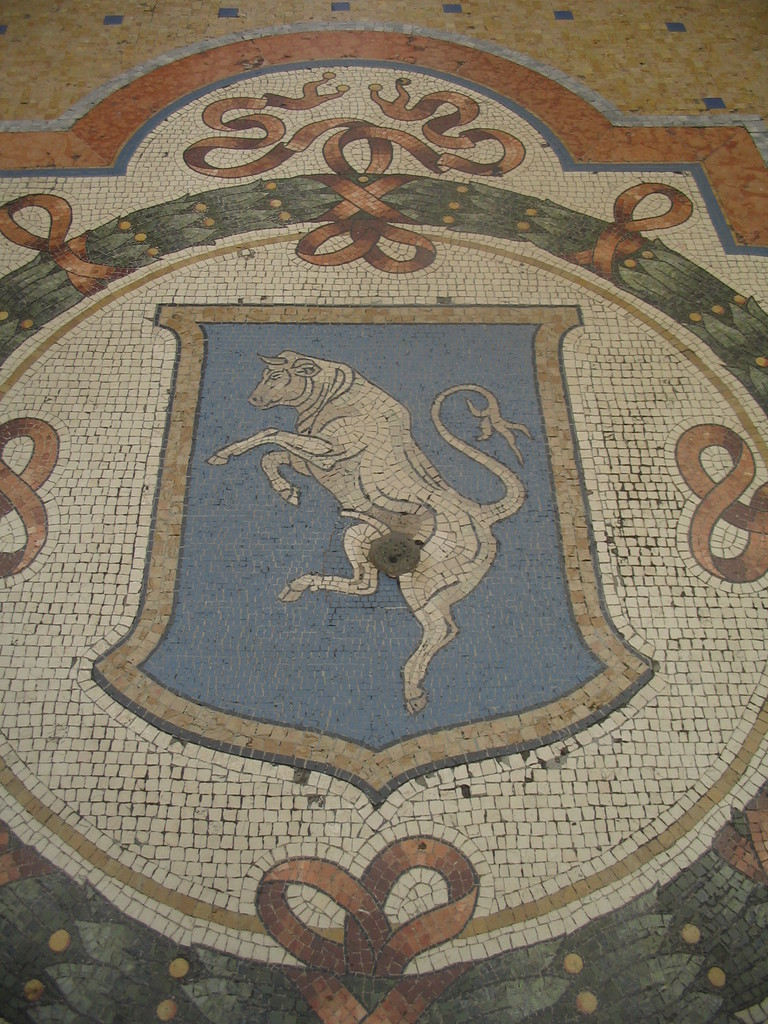Animal: (201, 343, 542, 721)
